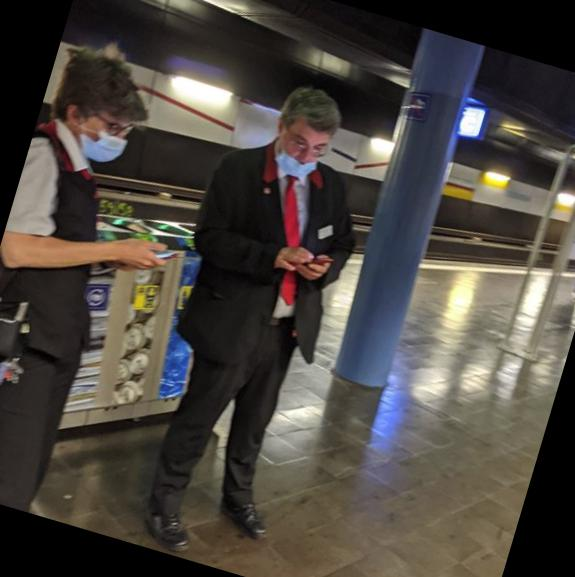mask_weared_incorrect: (272, 117, 336, 188)
with_mask: (74, 107, 135, 173)
